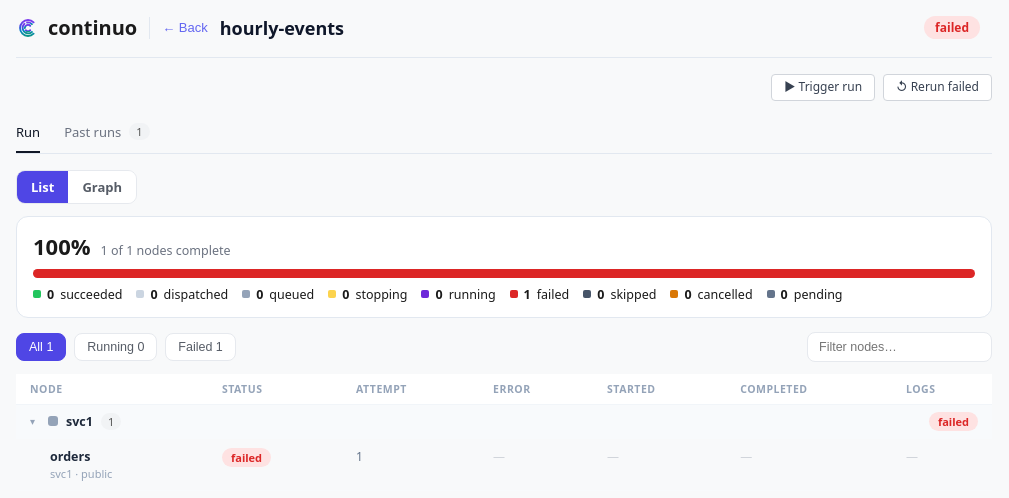
it: DetailPage — historical run attempts › never shows the latest run's rows while a chosen past run is still loading
Expected: the text "orders" is shown, top-left (50, 448), bottom-right (90, 465)
Click the tab "Past runs 1": coordinates (107, 132) top-left (64, 123), bottom-right (150, 141)
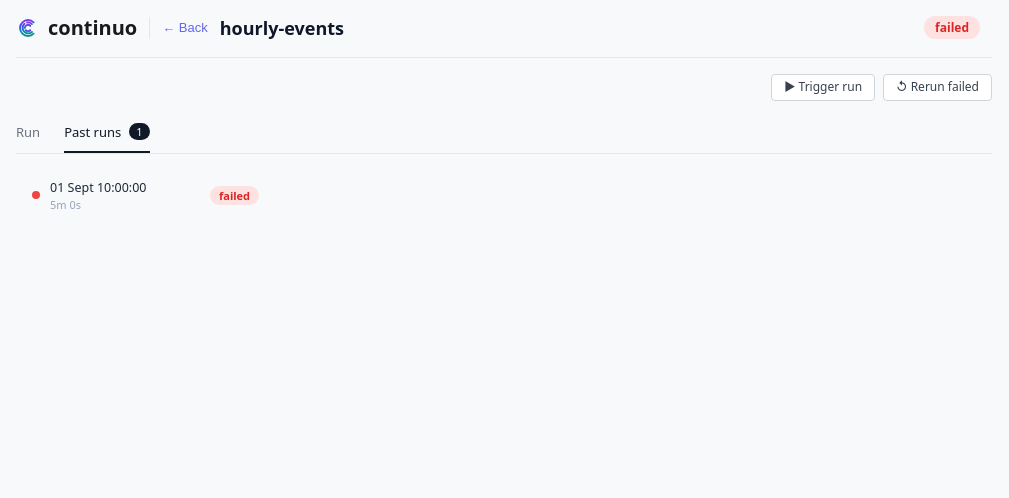
Expected: the number of buttons with class "run-row" is 1
Click the button with class "run-row": coordinates (98, 187) top-left (16, 170), bottom-right (992, 221)
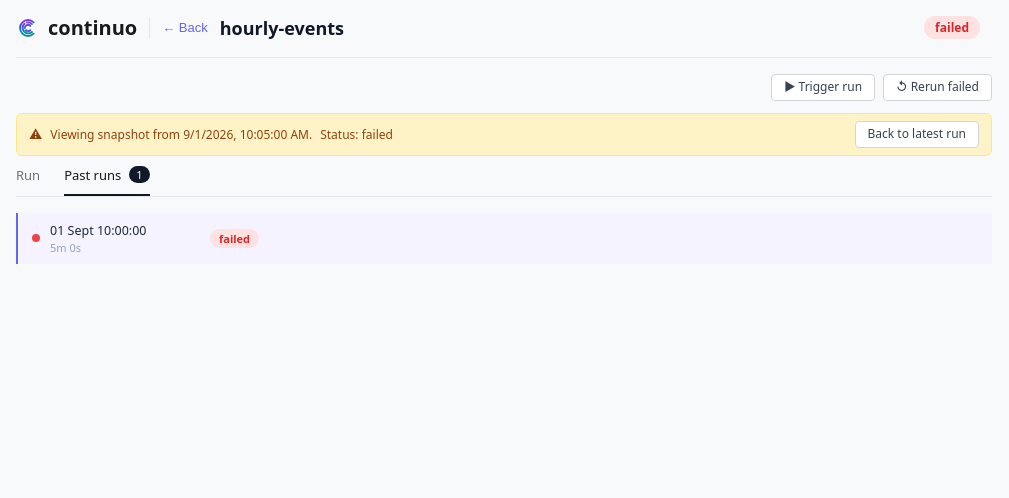
Click the tab "Run": coordinates (28, 175) top-left (16, 166), bottom-right (40, 184)
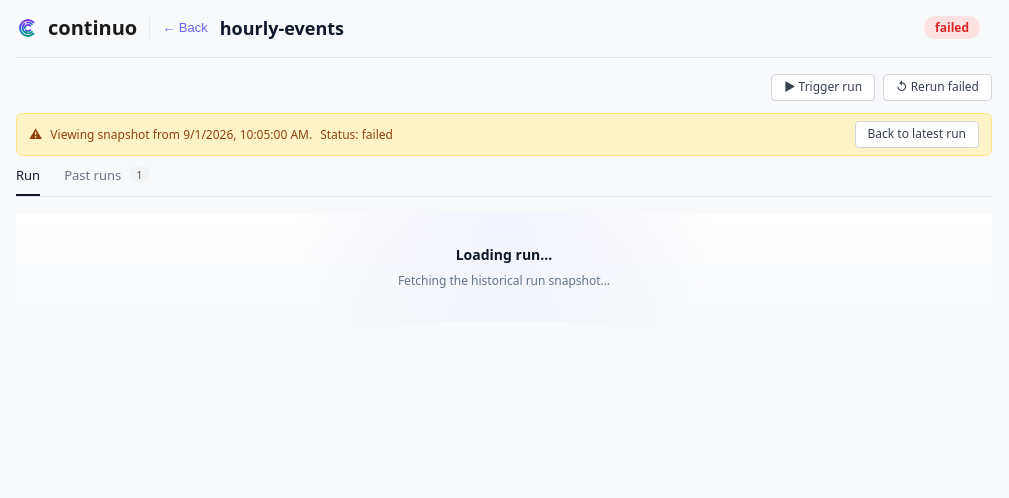
Expected: the text "orders" is not shown
Expected: the text "Loading run…" is shown, top-left (456, 245), bottom-right (552, 264)
